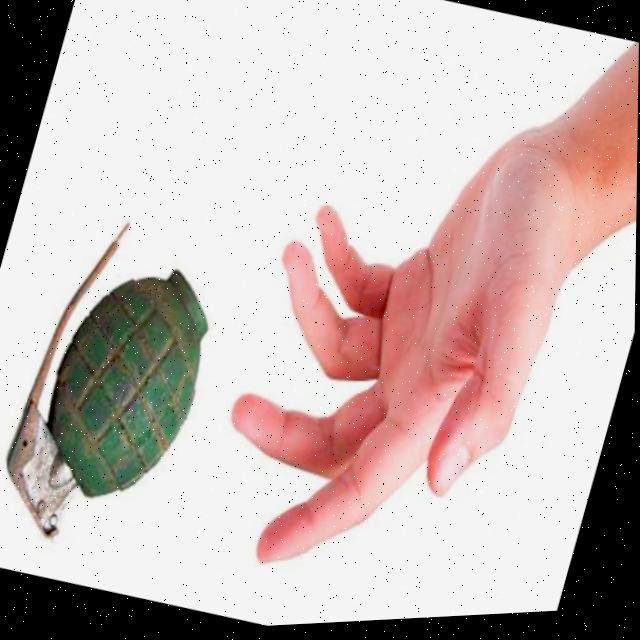grenade: (0, 158, 291, 589)
